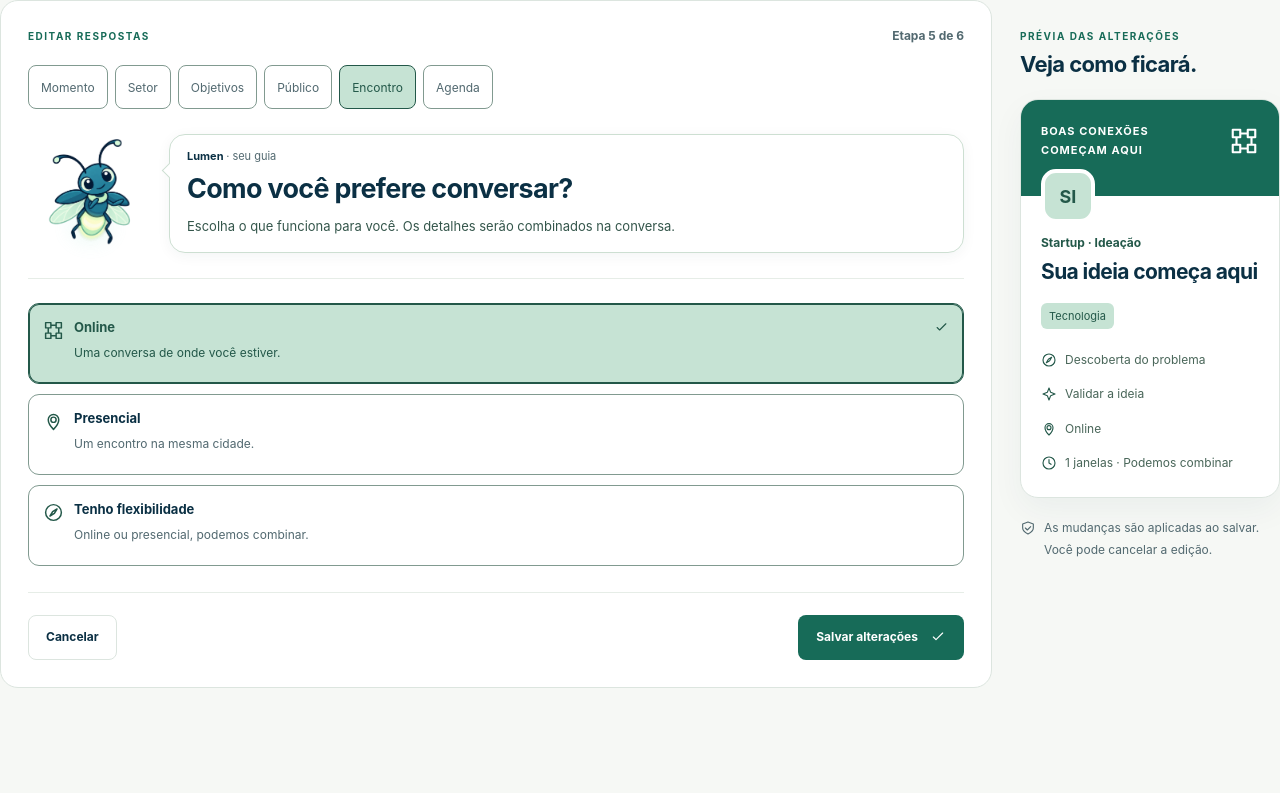
it: Perfil em seis etapas e três fases com o Lumen › solicita cidade no presencial e informa a alternativa online quando a modalidade é flexível
Click the button "Presencial Um encontro na mesma cidade." at (107, 418), box top-left (28, 394), bottom-right (964, 475)
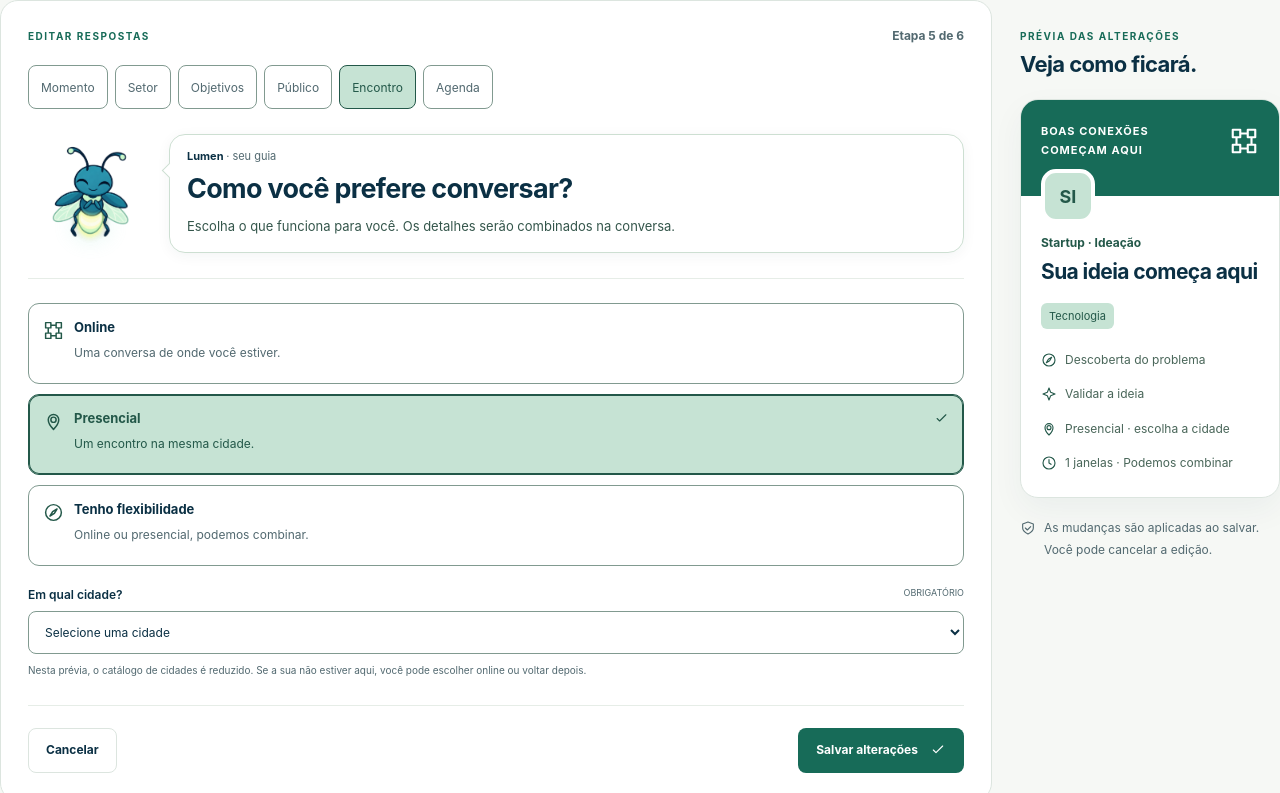
Click the button "Salvar alterações" at (881, 750), box top-left (798, 728), bottom-right (964, 773)
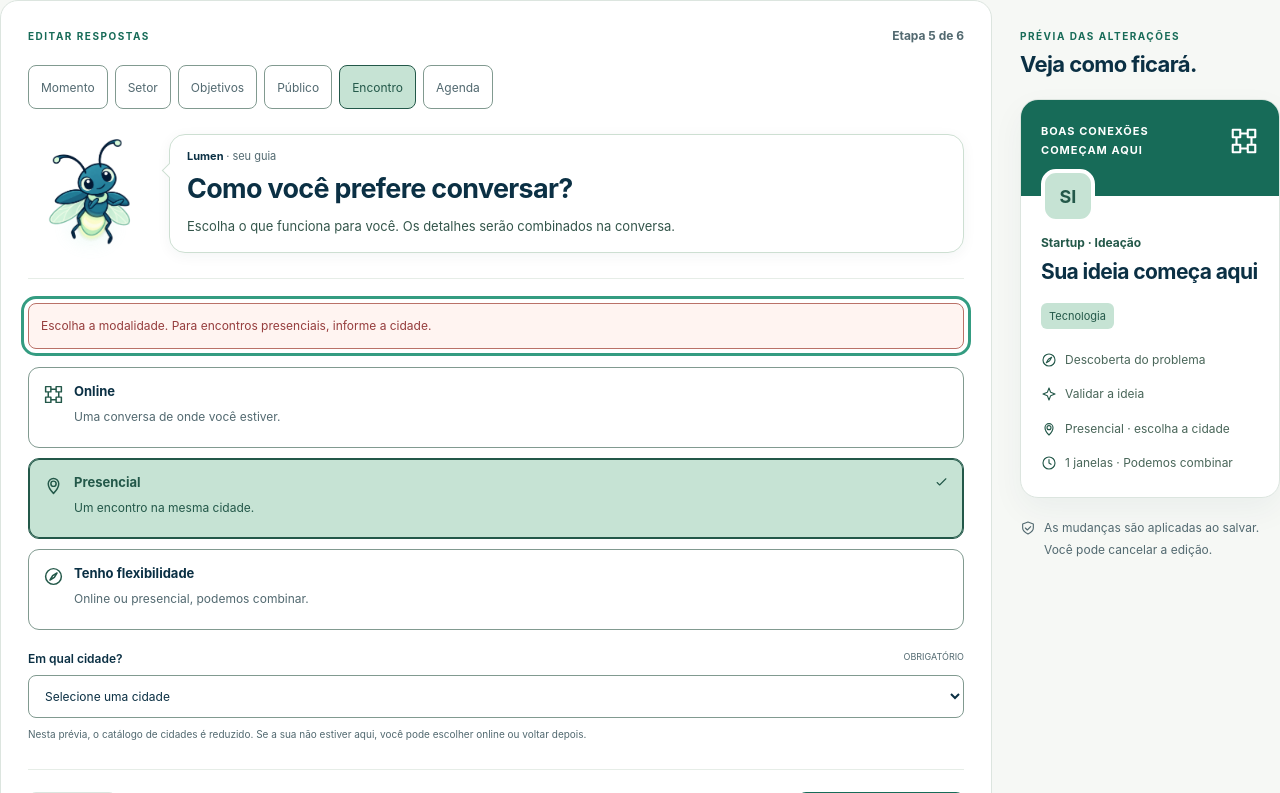
Result: the message "Escolha a modalidade. Para encontros presenciais, informe a cidade." is shown at top-left (28, 303), bottom-right (964, 349)
Select "Recife · PE" in the dropdown with id "meeting-city" at (496, 697), box top-left (28, 675), bottom-right (964, 718)
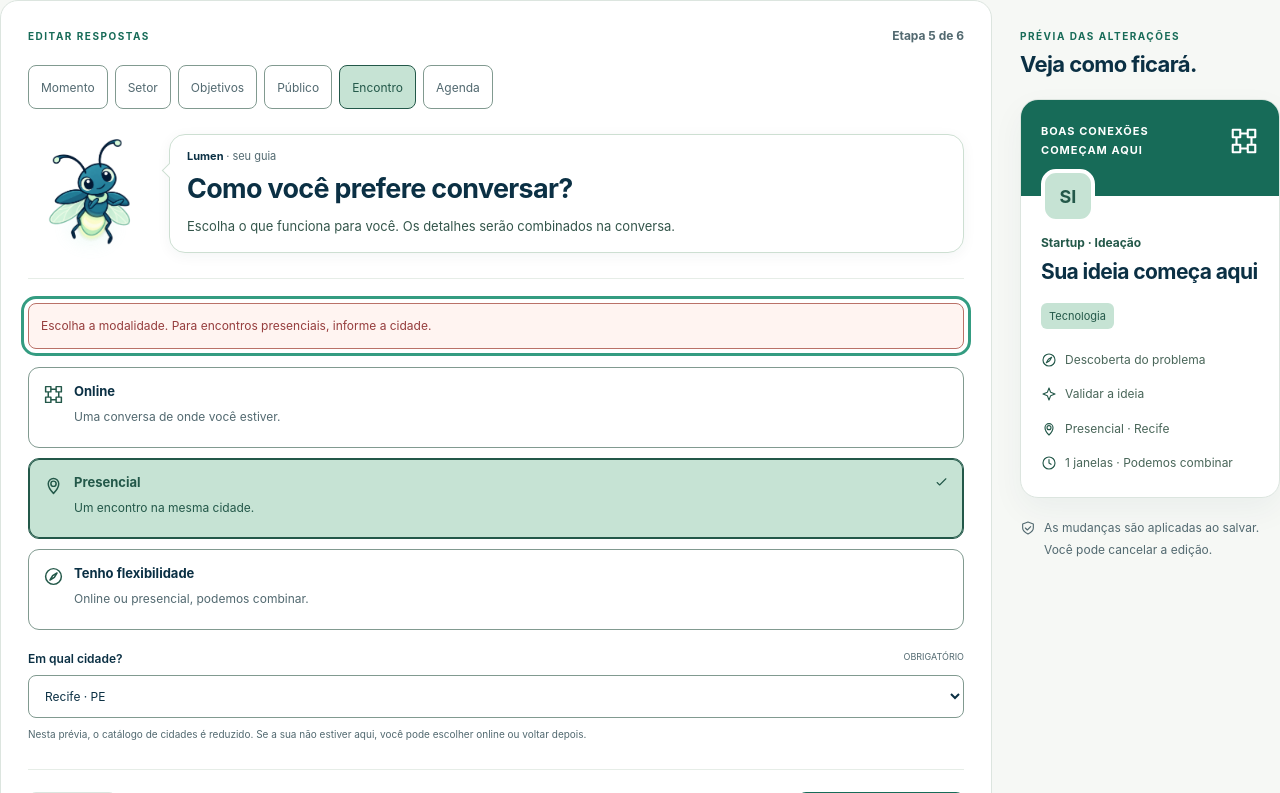
Click the button "Tenho flexibilidade Online ou presencial, podemos combinar." at (134, 573), box top-left (28, 549), bottom-right (964, 630)
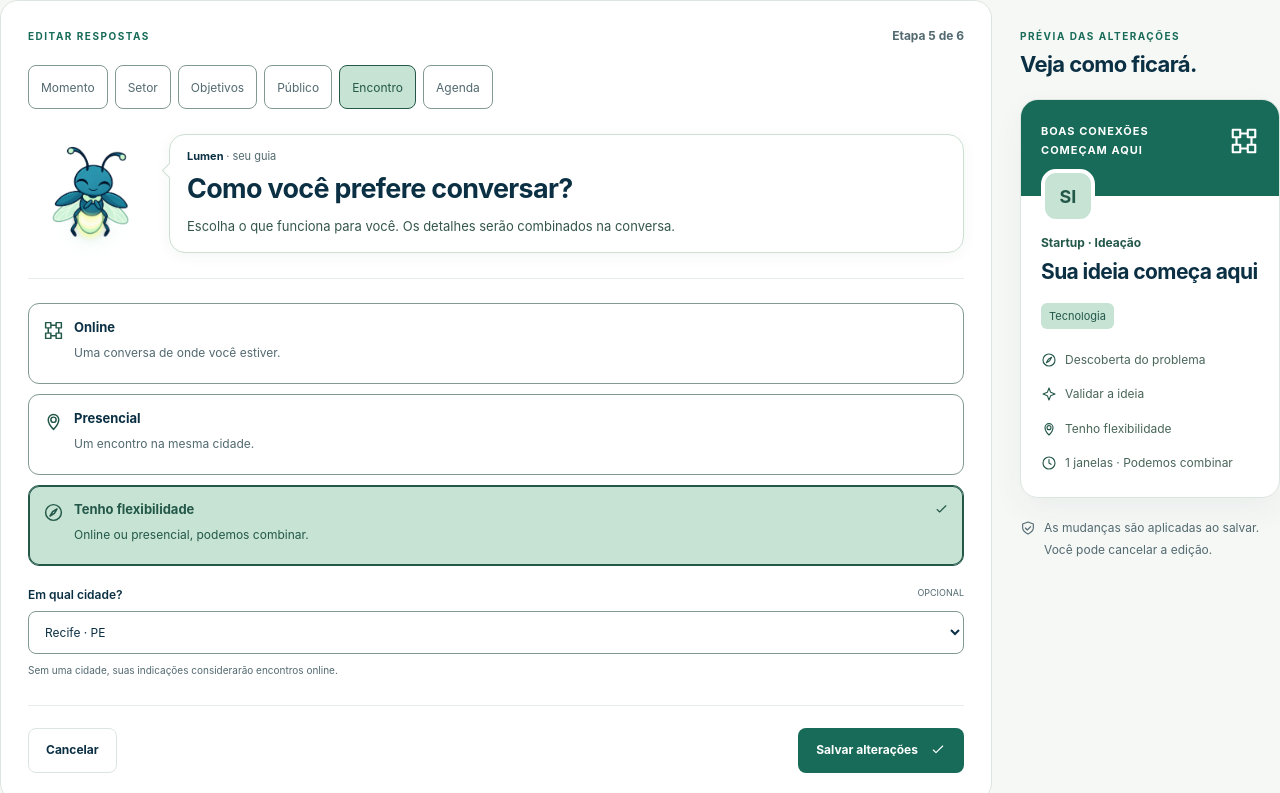
Result: the text with id "city-hint" shows "Sem uma cidade" at top-left (28, 664), bottom-right (338, 676)
Click the button "Online Uma conversa de onde você estiver." at (94, 327), box top-left (28, 303), bottom-right (964, 384)
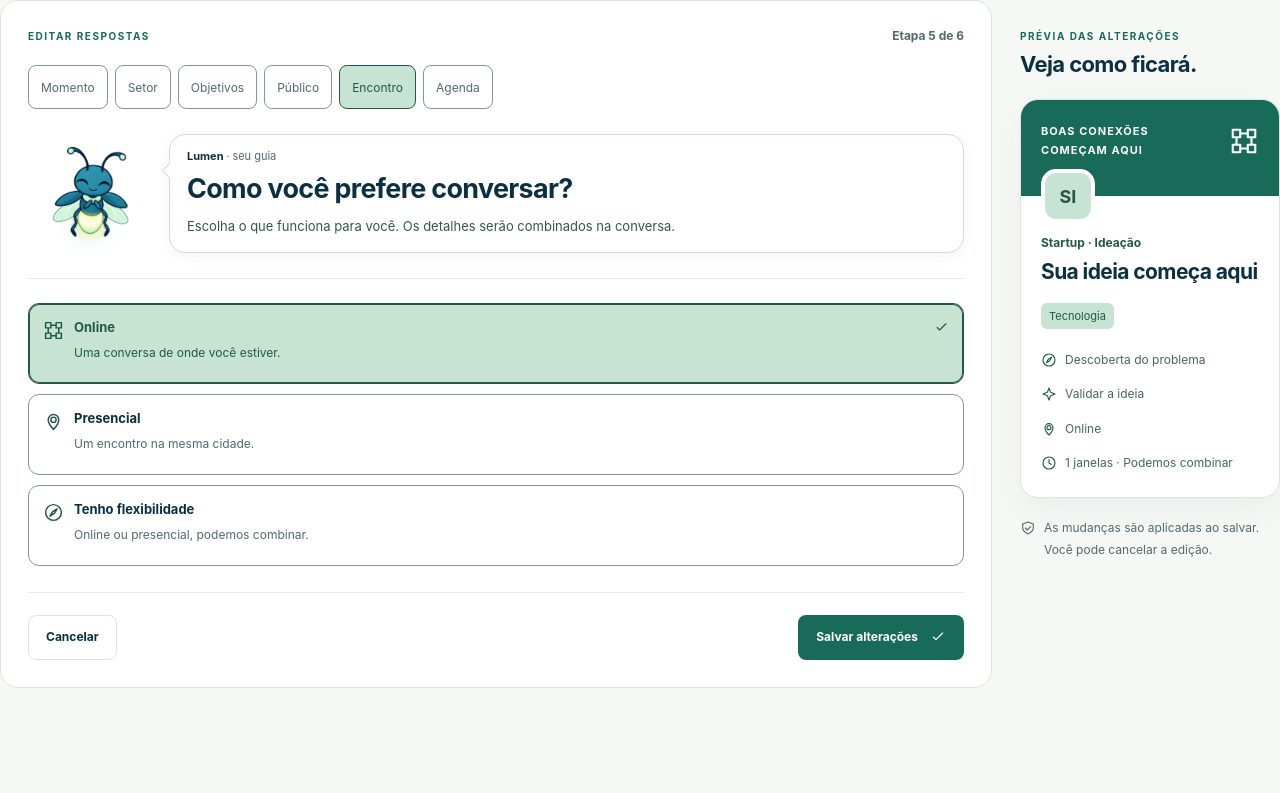
Result: the label with id "meeting-city" is gone
